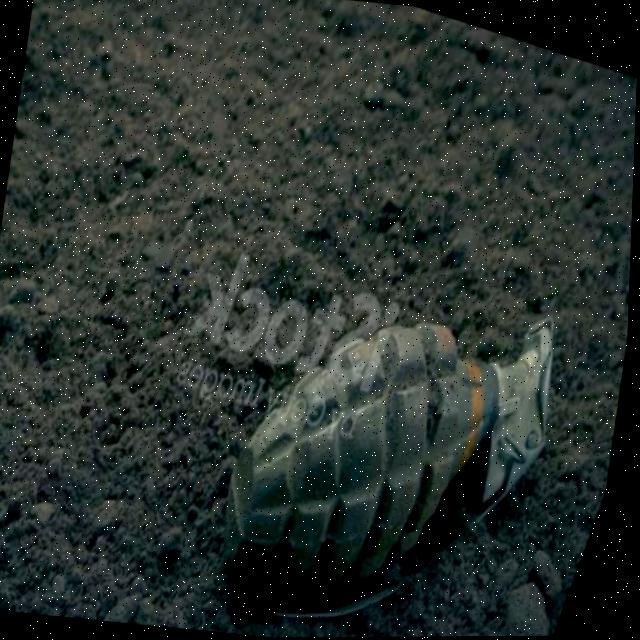grenade: (180, 230, 598, 639)
